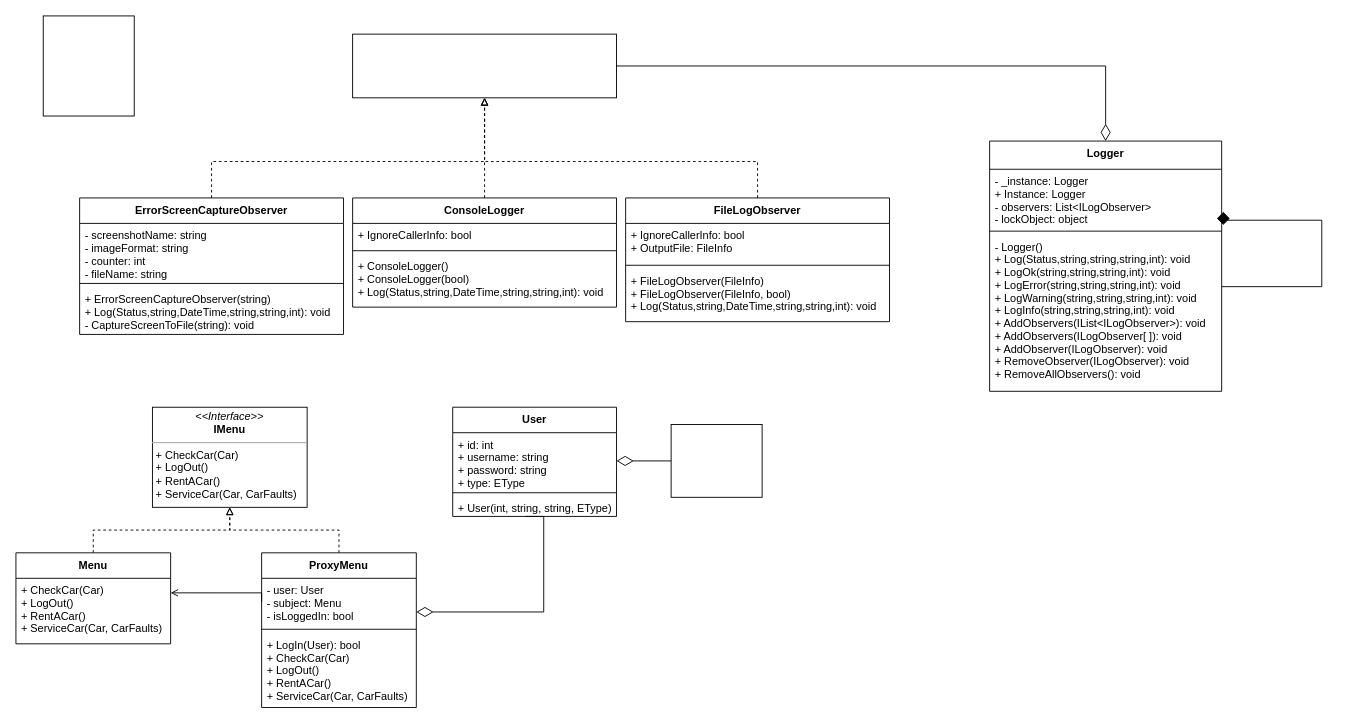
Image size: 1350x726. Some labels were removed from this diagram. The shapes that lost their labels are listed below. From the top down, each one's centre as x and y in pixels, then its label:
At point 88,65: "<<enumeration>> Status Ok Error Warning Info".
At point 484,65: "<<Interface>> ILogObserver + Log(Status,string,DateTime,string,string,int): void".
At point 716,460: "<<enumeration>> EType CLIENT ADMIN".
